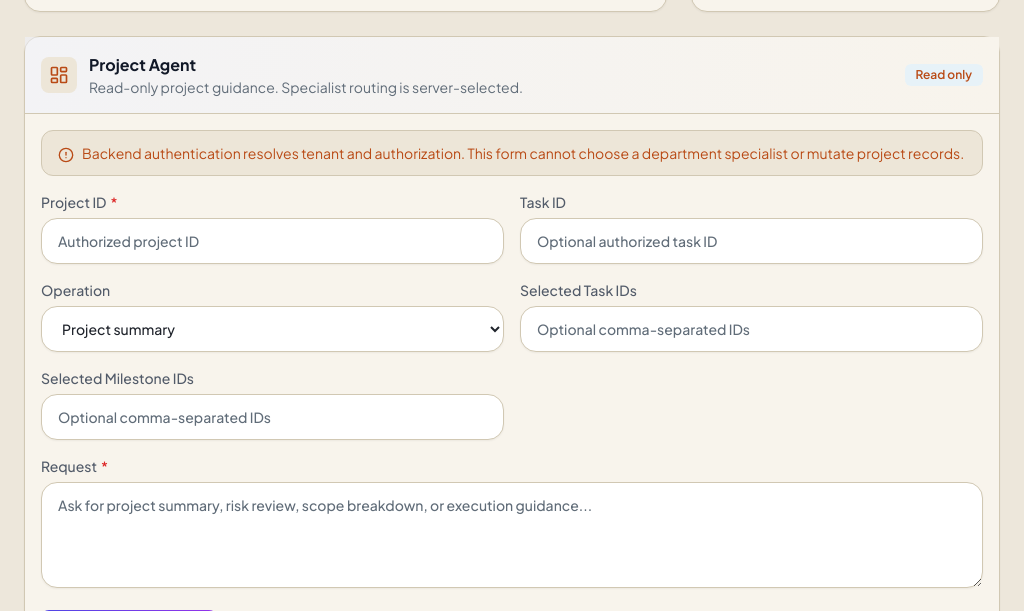
Test: AIHub agent integration › submits Project Agent through real contract without frontend authority fields
The width and height of the screenshot is (1024, 611).
(page scrolled)
Type "PROJ-1" into the field with placeholder "Authorized project ID" at (272, 241), box [41,218,504,264]
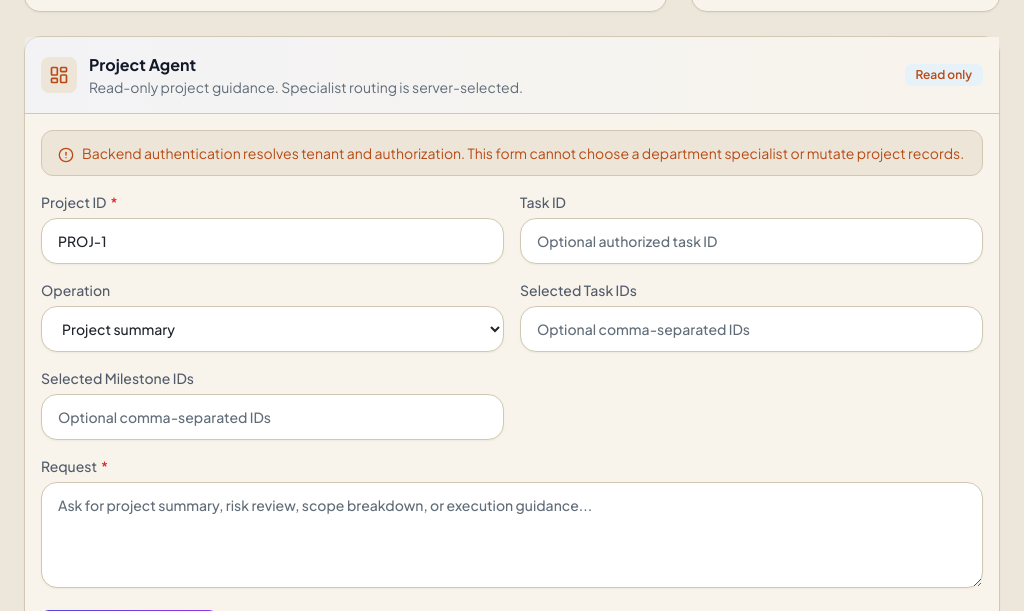
Replace the text in the text box labelled "Request*" with "Summarize risk." at (512, 535), box [41,482,983,588]
(page scrolled)
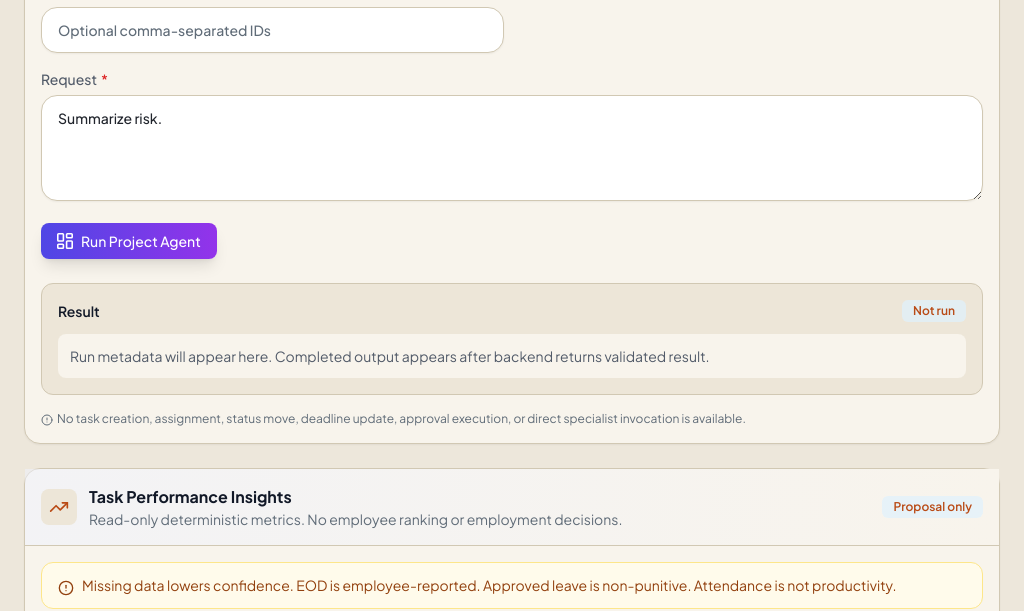
Click the button "Run Project Agent" at (129, 241), box [41,223,217,259]
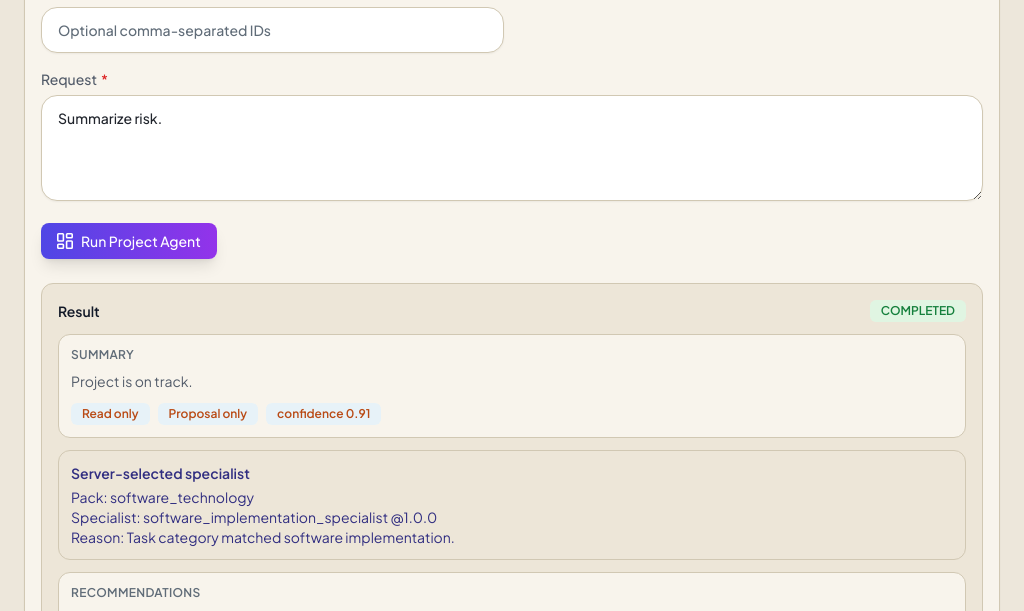
expect the text "Server-selected specialist" is shown: met, box [71,464,250,482]
